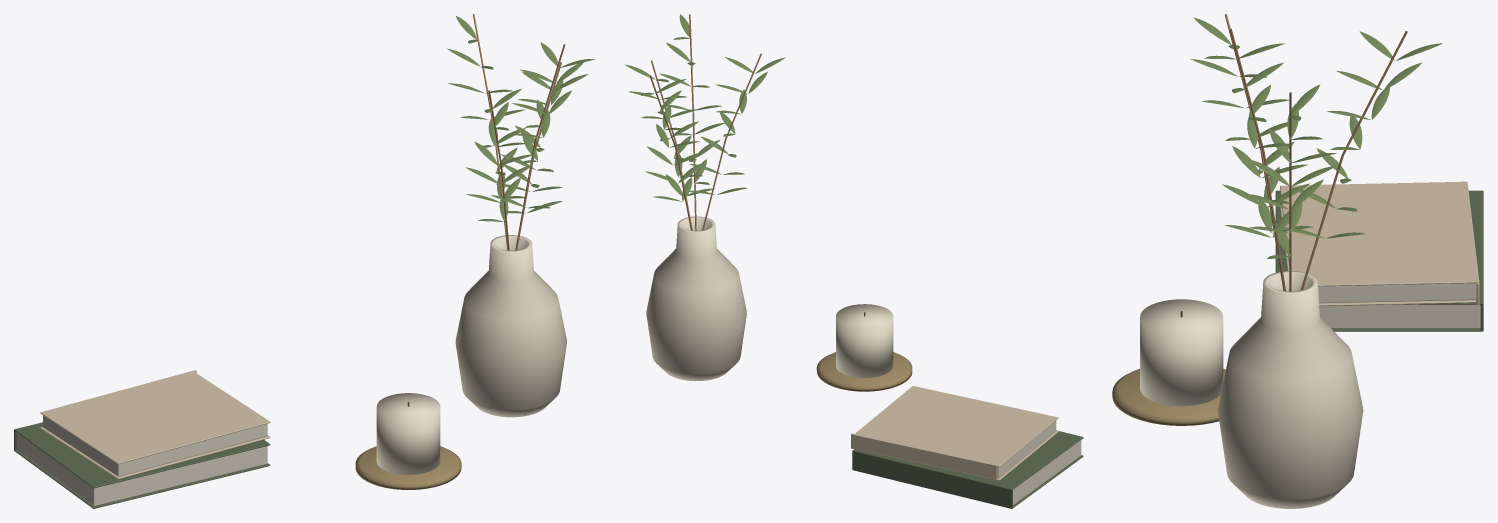
The model's file is coffee-still-life.glb.
3 renders of one model, left to right at view 1: azimuth 30°, elevation 25°; view 2: azimuth 150°, elevation 25°; view 3: azimuth 270°, elevation 25°, orthographic. The views are drawn at different scales.
Visible parts, largest first — view 1: Mood stoneware chalk, Mood linen oat, Mood book pages, Mood olive leaf, Mood book olive, Mood aged brass, Mood oak board; view 2: Mood stoneware chalk, Mood linen oat, Mood book olive, Mood olive leaf, Mood aged brass, Mood book pages, Mood oak board; view 3: Mood stoneware chalk, Mood linen oat, Mood olive leaf, Mood book pages, Mood aged brass, Mood oak board, Mood book olive.
Boxes of the visible parts, x1,y1,x2,y2 form: Mood stoneware chalk: (376, 235, 566, 474); Mood linen oat: (40, 370, 270, 479); Mood book pages: (17, 415, 267, 506); Mood olive leaf: (447, 16, 595, 221); Mood book olive: (14, 402, 409, 508); Mood aged brass: (355, 446, 461, 489); Mood oak board: (473, 14, 565, 250); Mood stoneware chalk: (646, 216, 893, 381); Mood linen oat: (851, 386, 1058, 480); Mood book olive: (852, 312, 1083, 508); Mood olive leaf: (624, 14, 785, 201); Mood aged brass: (816, 352, 912, 391); Mood book pages: (997, 420, 1081, 505); Mood oak board: (649, 14, 761, 230); Mood stoneware chalk: (1140, 271, 1363, 508); Mood linen oat: (1280, 181, 1479, 306); Mood olive leaf: (1190, 17, 1442, 259); Mood book pages: (1318, 283, 1480, 328); Mood aged brass: (1112, 368, 1225, 425); Mood oak board: (1225, 14, 1407, 291); Mood book olive: (1180, 190, 1483, 331).
Size of the model in its own units: 0.762 by 0.5337 by 0.375.
